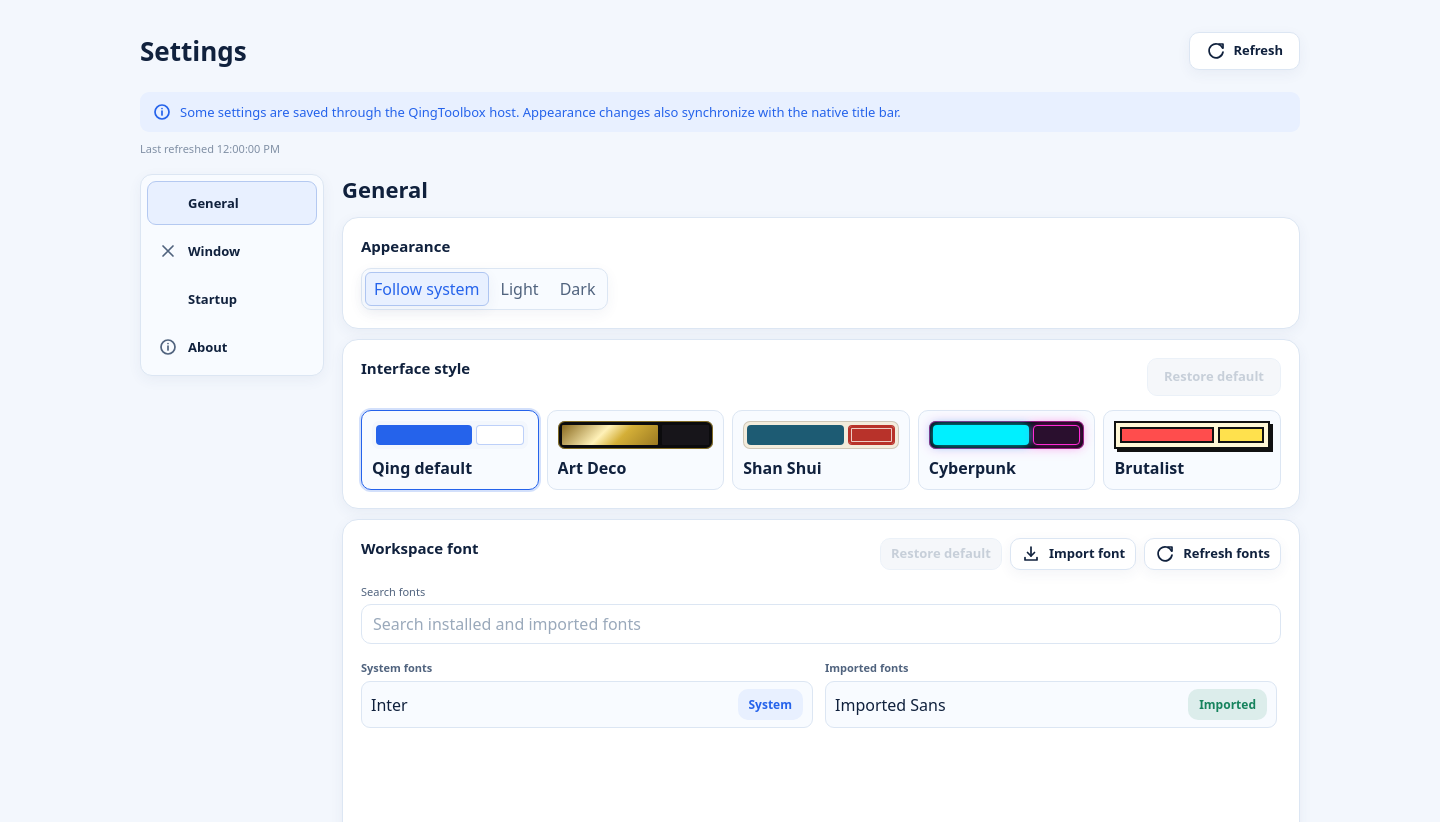
Test: SettingsPage information architecture › shows startup backend and status badge
Click the button "Startup".
click(232, 299)  # box left=147, top=277, right=317, bottom=321
(page scrolled)
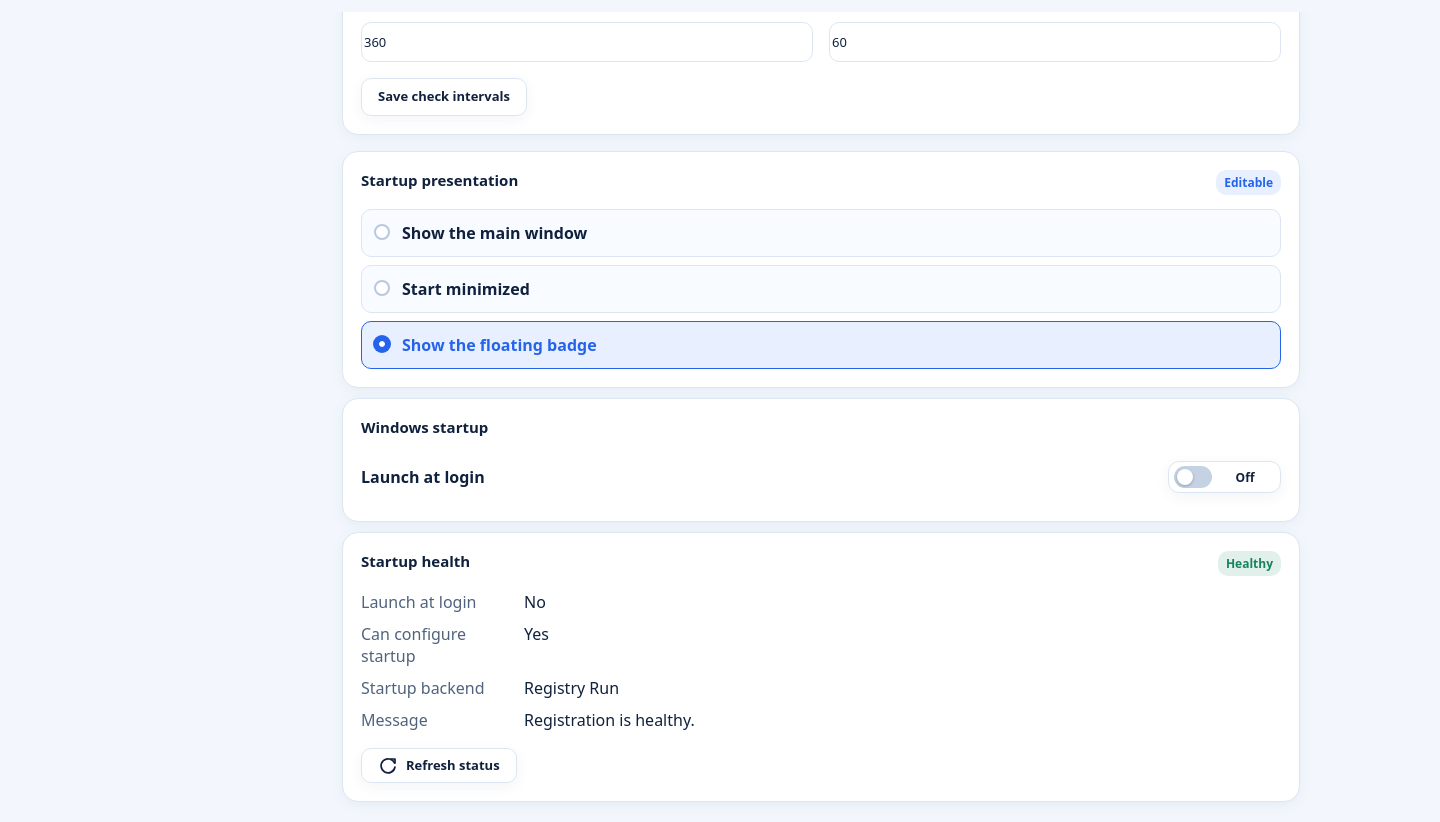
Expected: the text "Registry Run" is shown, left=524, top=677, right=619, bottom=699
Expected: the text "Healthy" is shown, left=1218, top=551, right=1281, bottom=576
